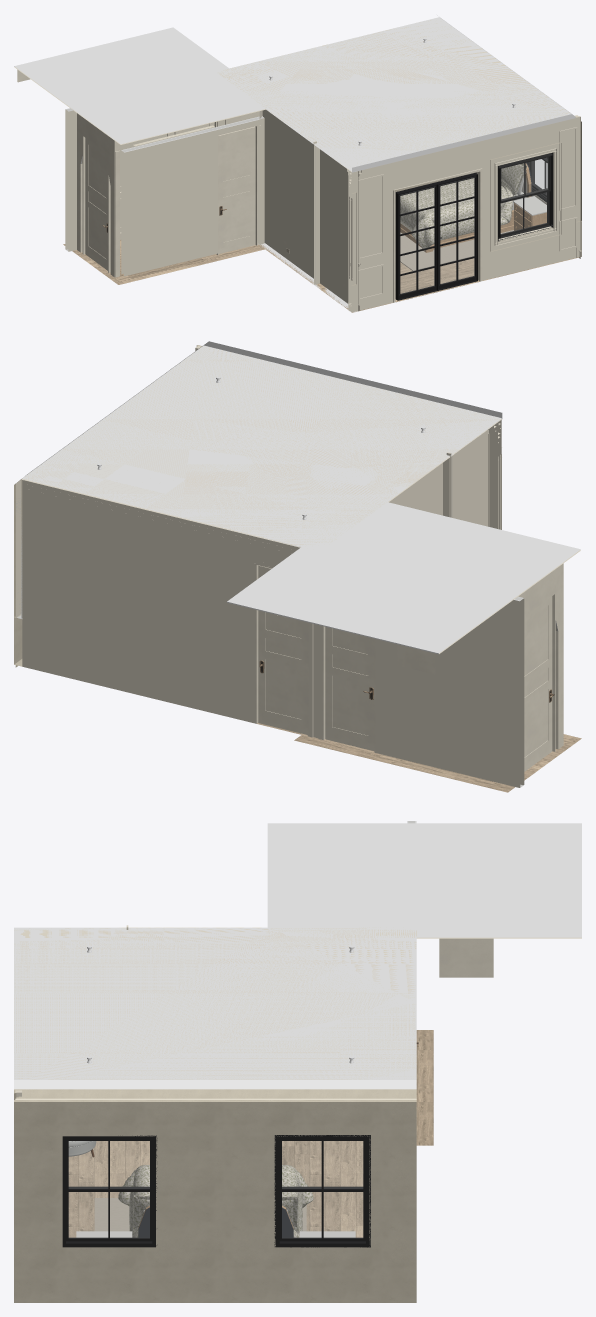
Rendered from primary-bedroom-a2fc6c5829db.glb.
3 renders of one model, top to bottom at view 1: azimuth 30°, elevation 25°; view 2: azimuth 150°, elevation 25°; view 3: azimuth 270°, elevation 25°, orthographic. The views are drawn at different scales.
Parts seen in each view (by area): view 1: primary-bedroom-9d91b47435c6fb33, primary-bedroom-b0ade14315e4f1c3, primary-bedroom-look-9d91b47435c6fb33, primary-bedroom-look-9ecc0d558be1c706, primary-bedroom-e8793759323e04f0, primary-bedroom-fc6585fecfaf7ec3, primary-bedroom-look-18f70a4a9eda5dac, primary-bedroom-42fce09358828e49, primary-bedroom-d70d42a253f78e60, primary-bedroom-c791a0f218fead78, primary-bedroom-e1735639a83d20d7, primary-bedroom-b29583548b72a1ea (+18 smaller); view 2: primary-bedroom-9d91b47435c6fb33, primary-bedroom-21ac2ed1b4475155, primary-bedroom-look-9d91b47435c6fb33, primary-bedroom-e8793759323e04f0, primary-bedroom-look-21ac2ed1b4475155, primary-bedroom-b7a870a0f6b43c8c, primary-bedroom-look-6d601da8073fdc0e, primary-bedroom-look-6c54e09c161b5848, primary-bedroom-c791a0f218fead78, primary-bedroom-look-e48b5483df8cacdb, primary-bedroom-look-2575515a05775d9e, primary-bedroom-fc6585fecfaf7ec3 (+5 smaller); view 3: primary-bedroom-9d91b47435c6fb33, primary-bedroom-adb6f49a6d2cbec3, primary-bedroom-look-9d91b47435c6fb33, primary-bedroom-e8793759323e04f0, primary-bedroom-16d9002bc6318568, primary-bedroom-2575515a05775d9e, primary-bedroom-91f952a1d198b4a4, primary-bedroom-f5a37a5545b9d676, primary-bedroom-791abe15be22adf2, primary-bedroom-look-95b94d4b81cfb474, primary-bedroom-look-2575515a05775d9e, primary-bedroom-b29583548b72a1ea (+2 smaller).
Boxes of the visible parts, <box> form: primary-bedroom-9d91b47435c6fb33: <box>215,17,575,172</box>; primary-bedroom-b0ade14315e4f1c3: <box>348,116,580,312</box>; primary-bedroom-look-9d91b47435c6fb33: <box>14,27,265,144</box>; primary-bedroom-look-9ecc0d558be1c706: <box>121,117,259,276</box>; primary-bedroom-e8793759323e04f0: <box>218,15,575,171</box>; primary-bedroom-fc6585fecfaf7ec3: <box>259,109,319,284</box>; primary-bedroom-look-18f70a4a9eda5dac: <box>218,126,255,253</box>; primary-bedroom-42fce09358828e49: <box>438,174,477,290</box>; primary-bedroom-d70d42a253f78e60: <box>398,184,437,300</box>; primary-bedroom-c791a0f218fead78: <box>314,144,358,312</box>; primary-bedroom-e1735639a83d20d7: <box>498,152,553,241</box>; primary-bedroom-b29583548b72a1ea: <box>400,178,513,250</box>; primary-bedroom-9d91b47435c6fb33: <box>21,345,502,551</box>; primary-bedroom-21ac2ed1b4475155: <box>22,480,320,739</box>; primary-bedroom-look-9d91b47435c6fb33: <box>227,502,580,654</box>; primary-bedroom-e8793759323e04f0: <box>22,341,502,544</box>; primary-bedroom-look-21ac2ed1b4475155: <box>320,596,524,787</box>; primary-bedroom-b7a870a0f6b43c8c: <box>258,565,307,734</box>; primary-bedroom-look-6d601da8073fdc0e: <box>325,627,374,750</box>; primary-bedroom-look-6c54e09c161b5848: <box>524,592,555,771</box>; primary-bedroom-c791a0f218fead78: <box>443,426,491,526</box>; primary-bedroom-look-e48b5483df8cacdb: <box>518,563,563,749</box>; primary-bedroom-look-2575515a05775d9e: <box>294,734,581,792</box>; primary-bedroom-fc6585fecfaf7ec3: <box>389,459,446,515</box>; primary-bedroom-9d91b47435c6fb33: <box>14,927,416,1089</box>; primary-bedroom-adb6f49a6d2cbec3: <box>14,1100,416,1247</box>; primary-bedroom-look-9d91b47435c6fb33: <box>267,823,581,938</box>; primary-bedroom-e8793759323e04f0: <box>14,927,416,1088</box>; primary-bedroom-16d9002bc6318568: <box>15,1248,416,1300</box>; primary-bedroom-2575515a05775d9e: <box>14,1141,416,1302</box>; primary-bedroom-91f952a1d198b4a4: <box>274,1135,370,1247</box>; primary-bedroom-f5a37a5545b9d676: <box>62,1135,157,1247</box>; primary-bedroom-791abe15be22adf2: <box>14,1089,416,1098</box>; primary-bedroom-look-95b94d4b81cfb474: <box>439,938,493,977</box>; primary-bedroom-look-2575515a05775d9e: <box>416,1030,433,1145</box>; primary-bedroom-b29583548b72a1ea: <box>118,1165,313,1237</box>.
Size of the model in its own units: 8.2 by 3.04 by 7.21.
Materials: 41 (10 with a texture image).
